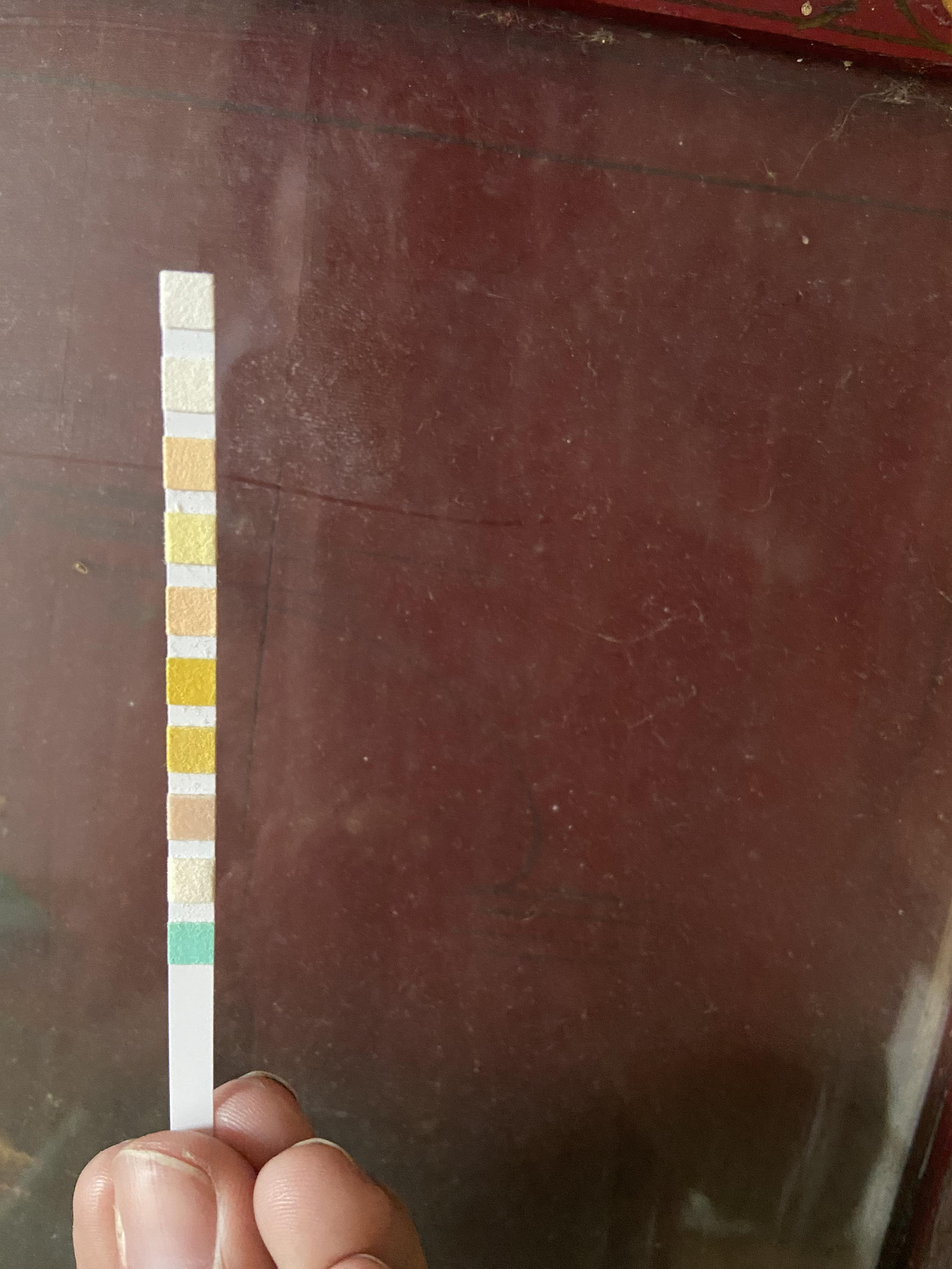Bilirubin: (168, 858, 216, 903)
Blood: (167, 659, 218, 706)
Glucose: (168, 922, 215, 964)
Ketone: (168, 794, 215, 840)
Leukocytes: (162, 272, 213, 326)
Nitrite: (164, 356, 215, 410)
Protein: (164, 513, 215, 564)
SpGravity: (166, 726, 217, 773)
Urobilinogen: (163, 438, 215, 489)
pH: (167, 588, 218, 635)
strip: (161, 271, 214, 1126)
